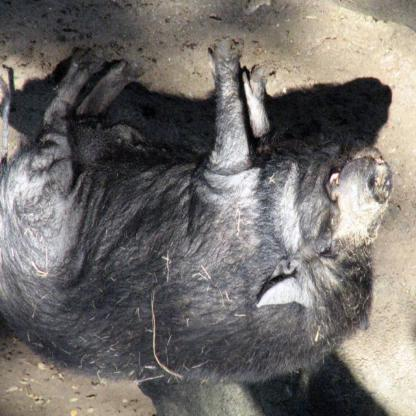boar: (0, 35, 392, 388)
